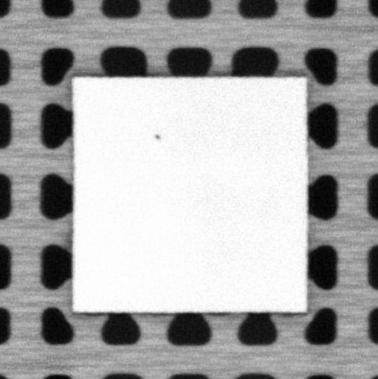DIE_INK: (152, 131, 162, 141)
